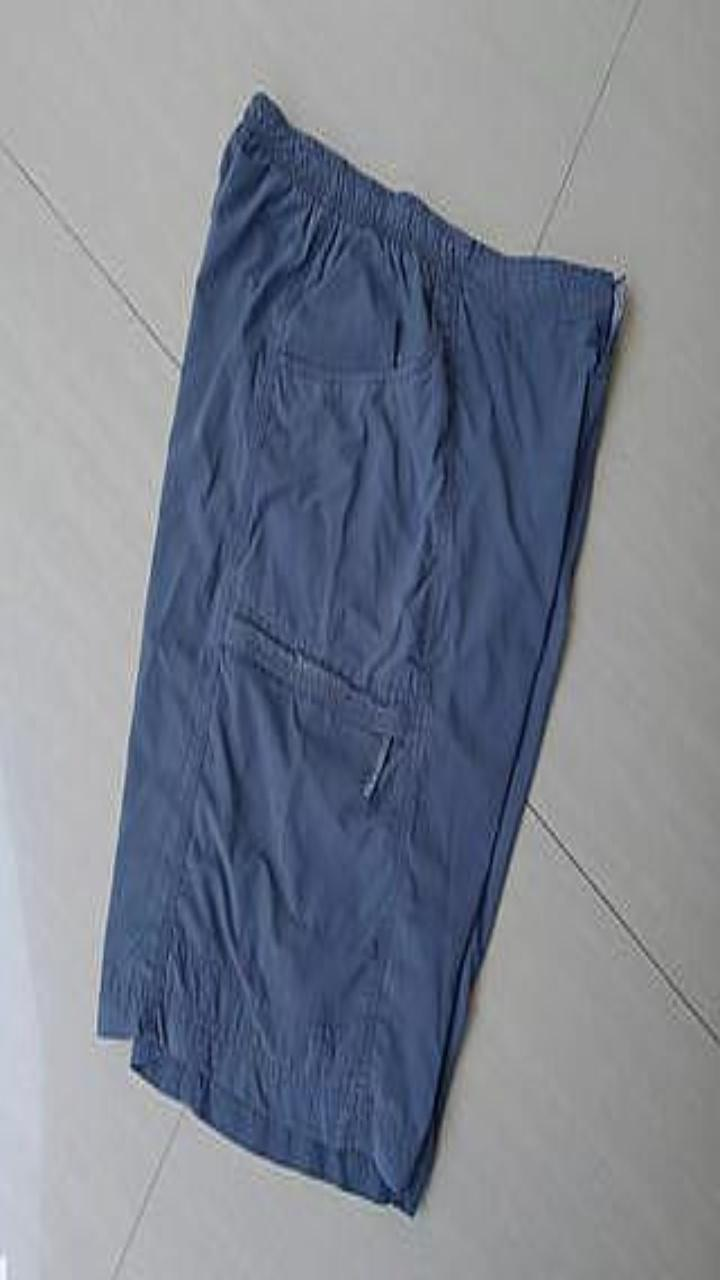Shorts: (98, 93, 624, 1213)
